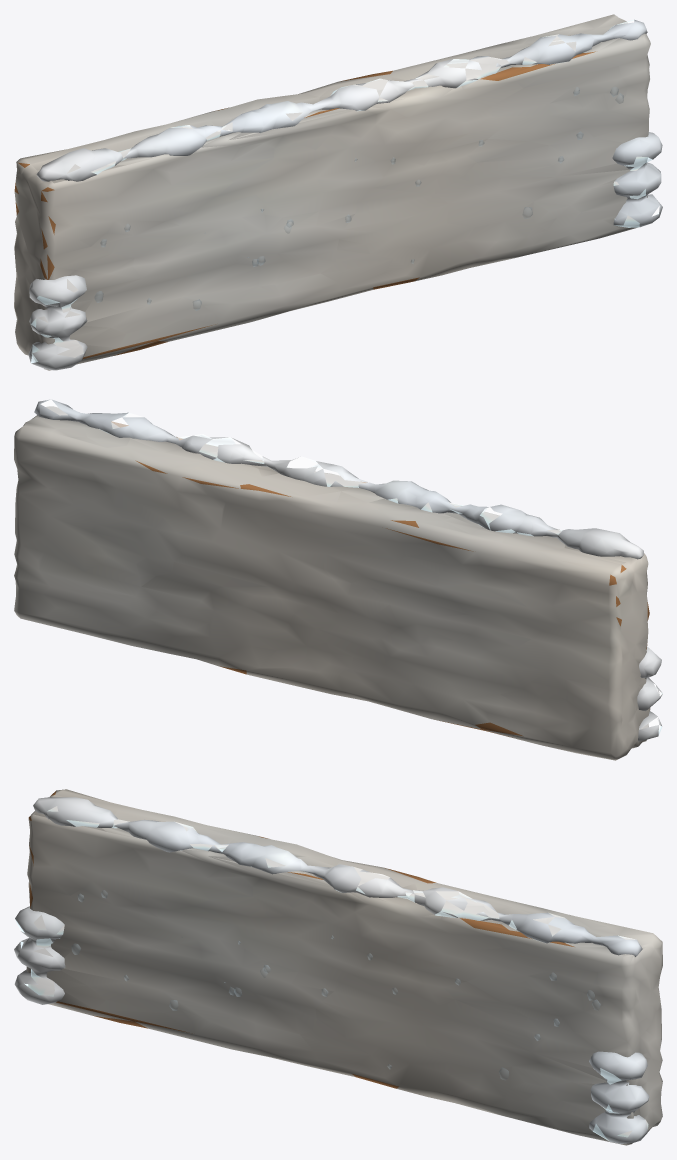
File: frost_window_cliff_lod1.glb
3 views of the same model, one above another, from view 1: azimuth 30°, elevation 25°; view 2: azimuth 150°, elevation 25°; view 3: azimuth 330°, elevation 25° (orthographic).
Parts seen in each view (by area): view 1: frost_window_cliff.001; view 2: frost_window_cliff.001; view 3: frost_window_cliff.001.
Part boxes in pixels (x1,y1,x2,y2): frost_window_cliff.001: [14, 14, 662, 370]; frost_window_cliff.001: [14, 399, 662, 760]; frost_window_cliff.001: [14, 789, 662, 1145].
Bounding box in the file's own units: 41.68 × 13.1 × 5.02.
